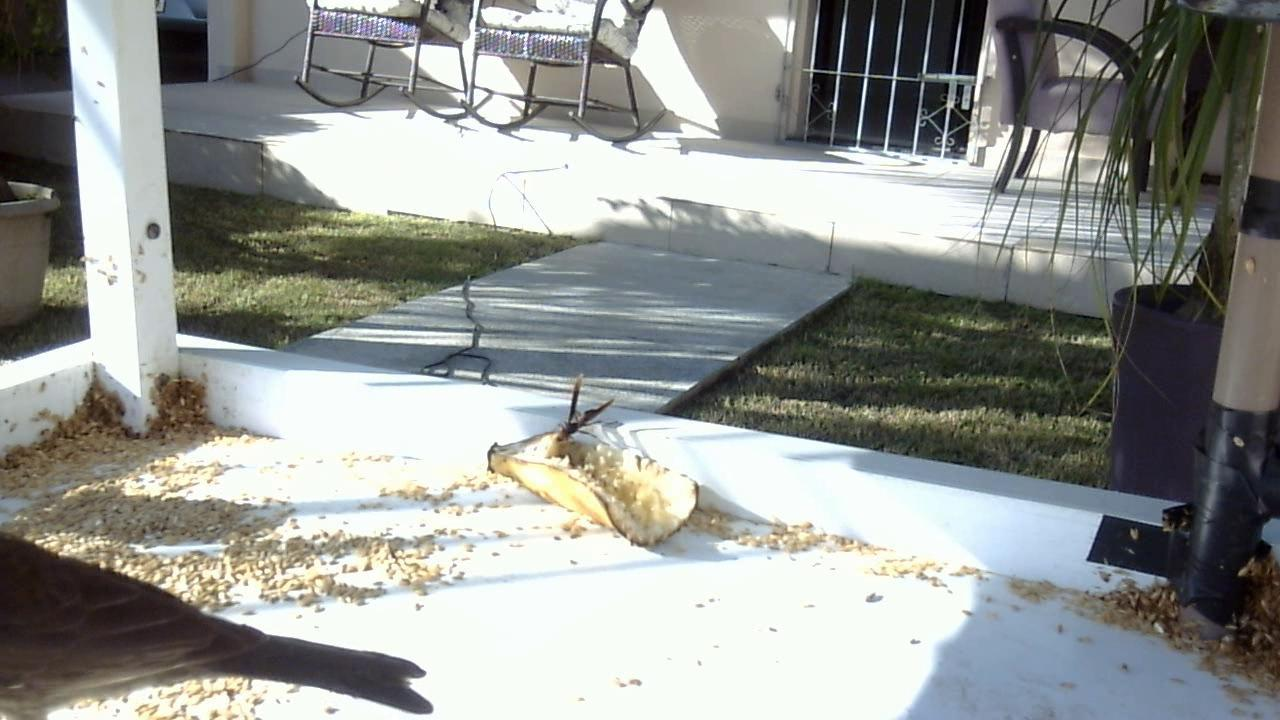chupim: (7, 510, 449, 713)
